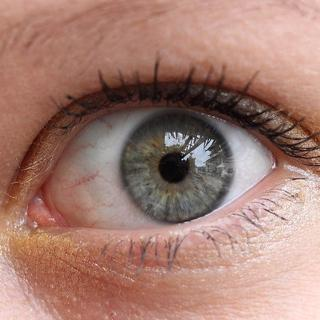pupil: (159, 152, 189, 182)
